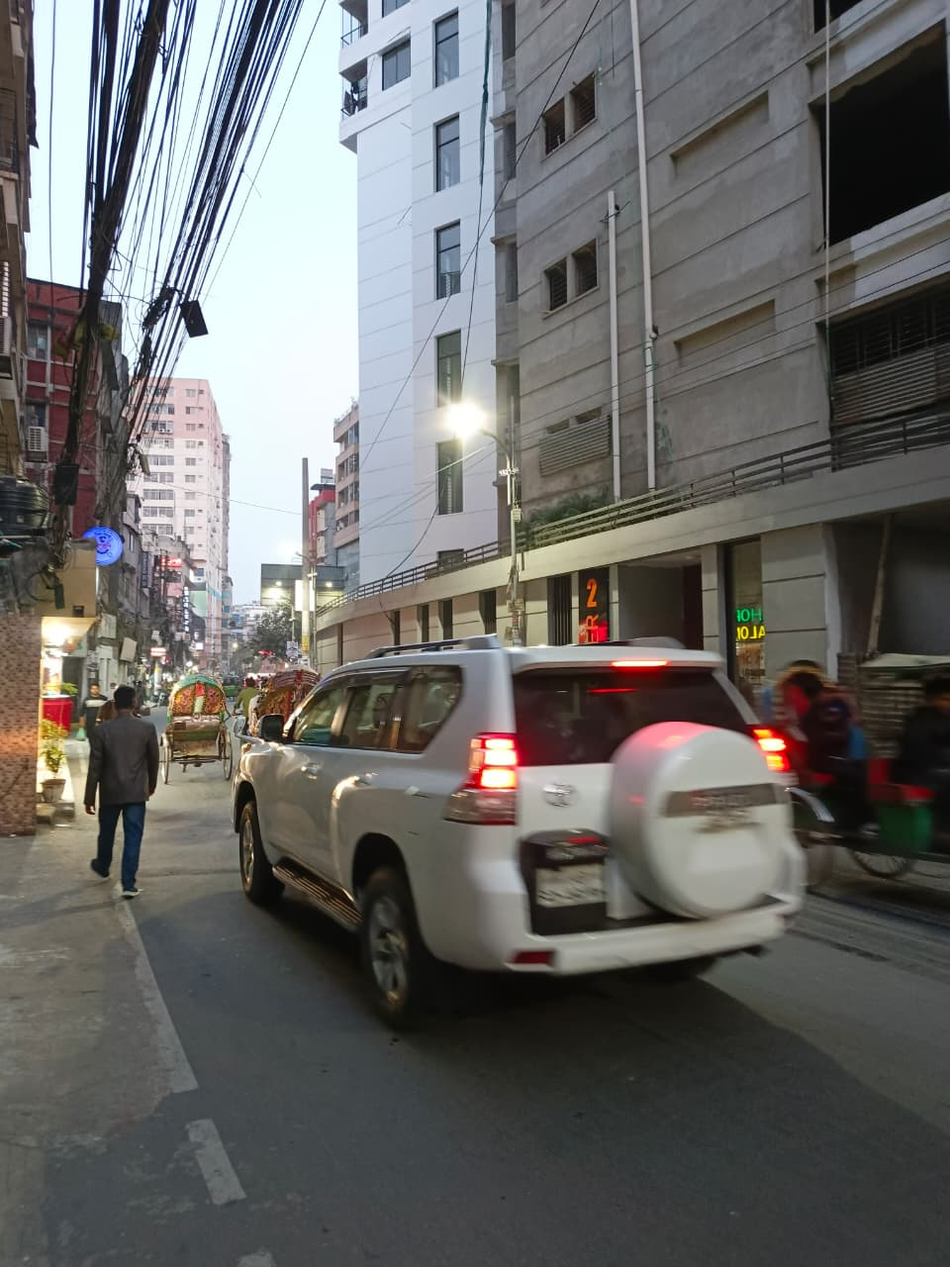auto-ricksaw: (156, 641, 291, 779)
private car: (245, 619, 829, 1004)
